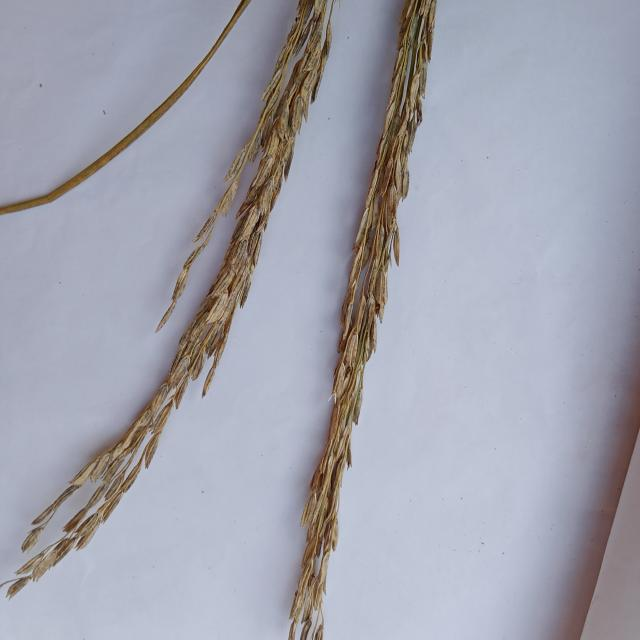Neck_Blast: (79, 0, 328, 503), (290, 0, 438, 621)
